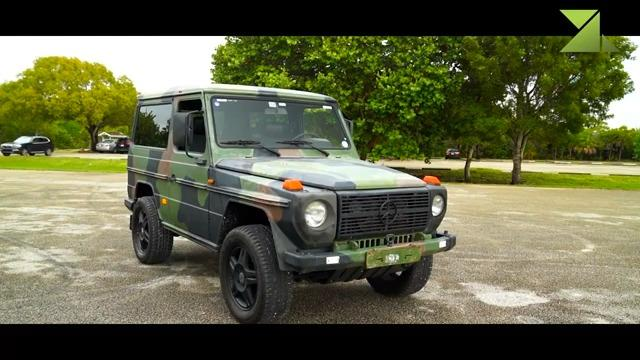MIL_HMMWV: (124, 83, 456, 323), (1, 135, 53, 156)
